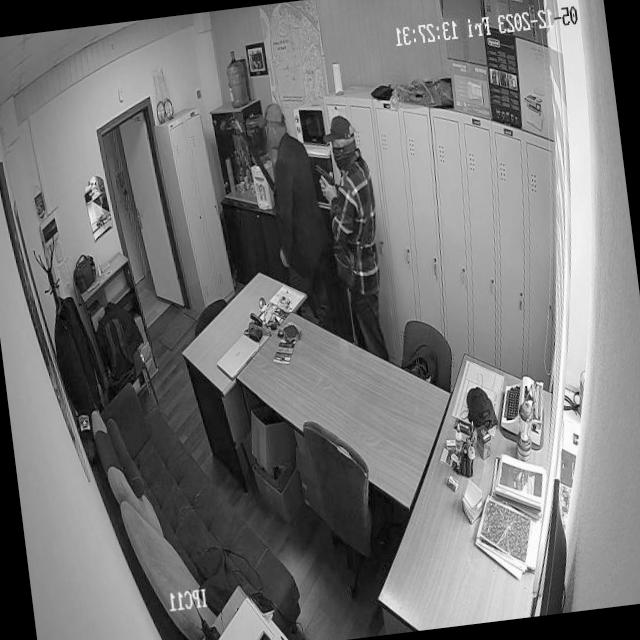gun: (228, 108, 300, 237), (313, 159, 338, 201)
person with a gun: (316, 110, 392, 338), (232, 96, 326, 271)
